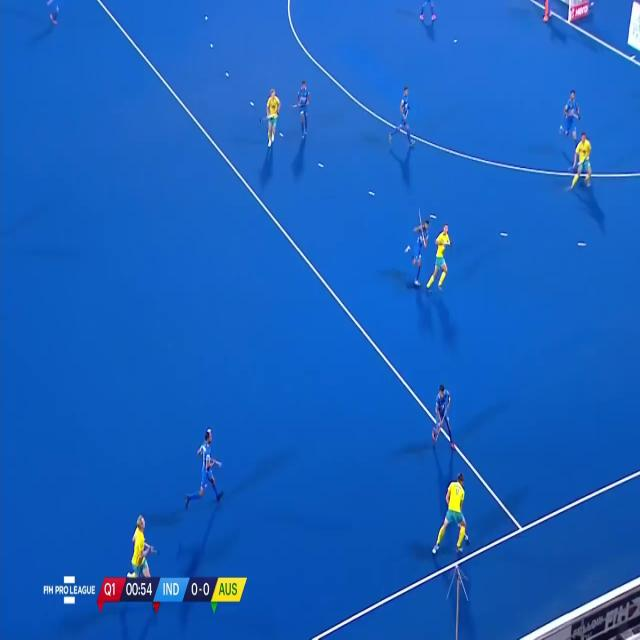ball: (465, 534, 469, 542)
